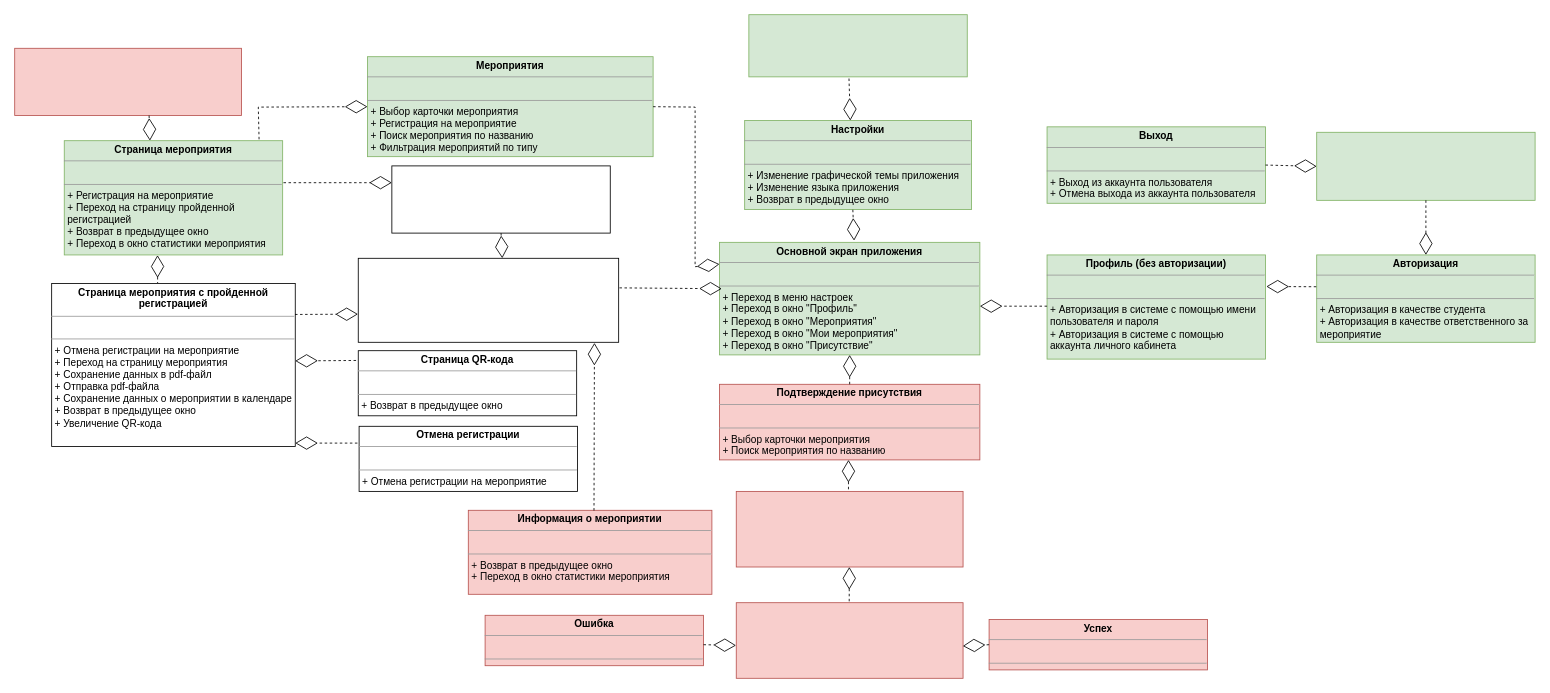
Image size: 1550x693. Some labels were removed from this diagram. Here are the shapes that lost their labels. From the top down, the centre of each, then its label:
At (857,45): "Смена языка + Смена языка приложения".
At (128,81): "Статистика посещаемости мероприятия + Возврат в предыдущее окно".
At (1425,165): "Профиль (авторизованный) + Выход из аккаунта пользователя".
At (500,199): "Регистрация на мероприятие + Регистрация на мероприятие".
At (488,299): "Мои мероприятия + Выбор карточки мероприятия + Поиск мероприятия по названию".
At (849,529): "Сканер QR-кода + Возврат в предыдущее окно + Сканирование QR-кода".
At (849,640): "Результат сканера + Возврат в предыдущее окно + Подтверждение присутствия".
